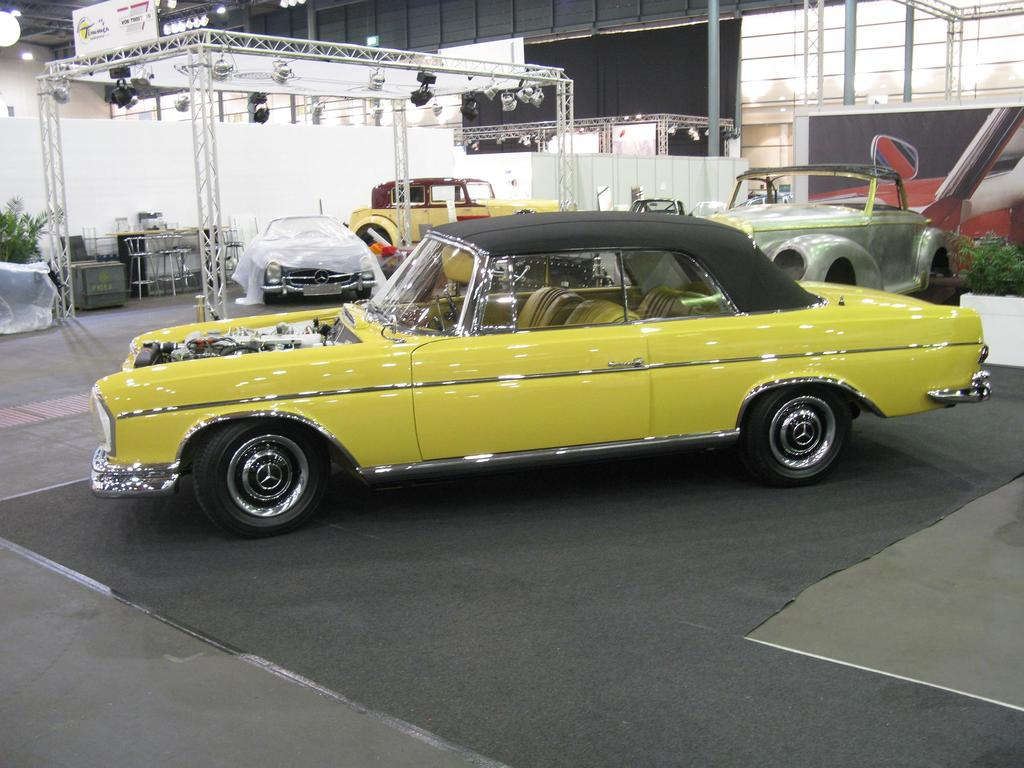Car: (89, 161, 995, 540), (805, 108, 1023, 269), (0, 261, 58, 327)
